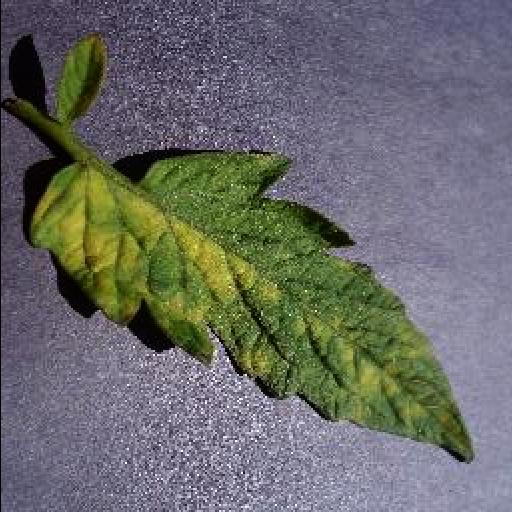disease_tomato: (29, 148, 475, 466)
